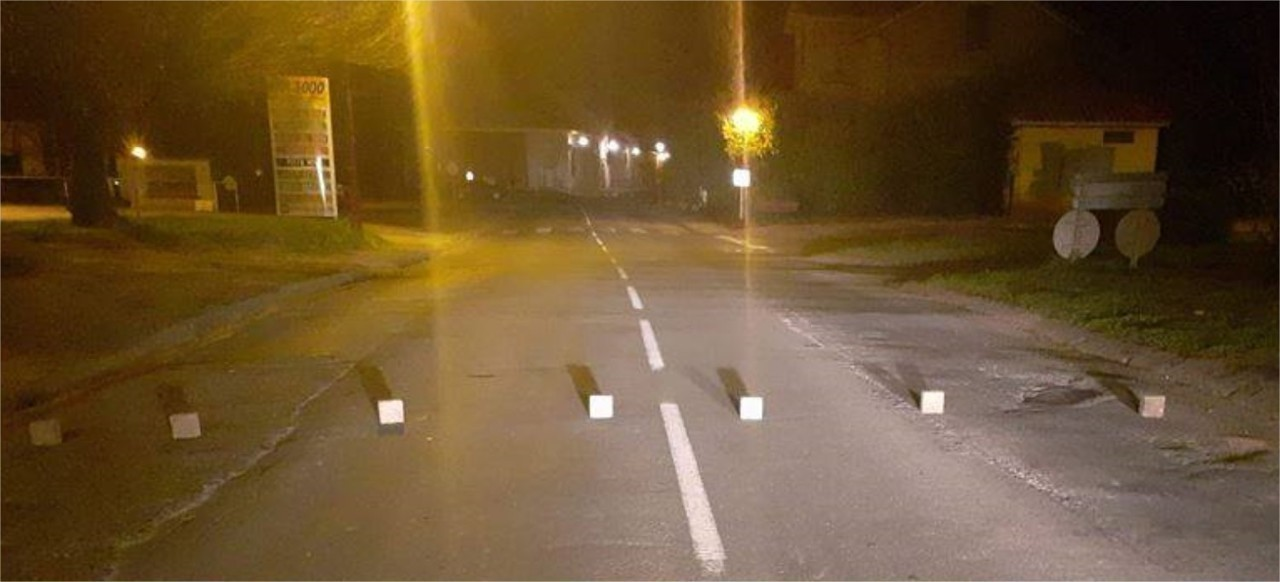obstacle: (366, 393, 412, 430), (26, 418, 70, 448), (914, 383, 953, 416), (1134, 388, 1174, 417), (585, 389, 620, 422), (165, 410, 205, 438), (734, 392, 770, 423)
